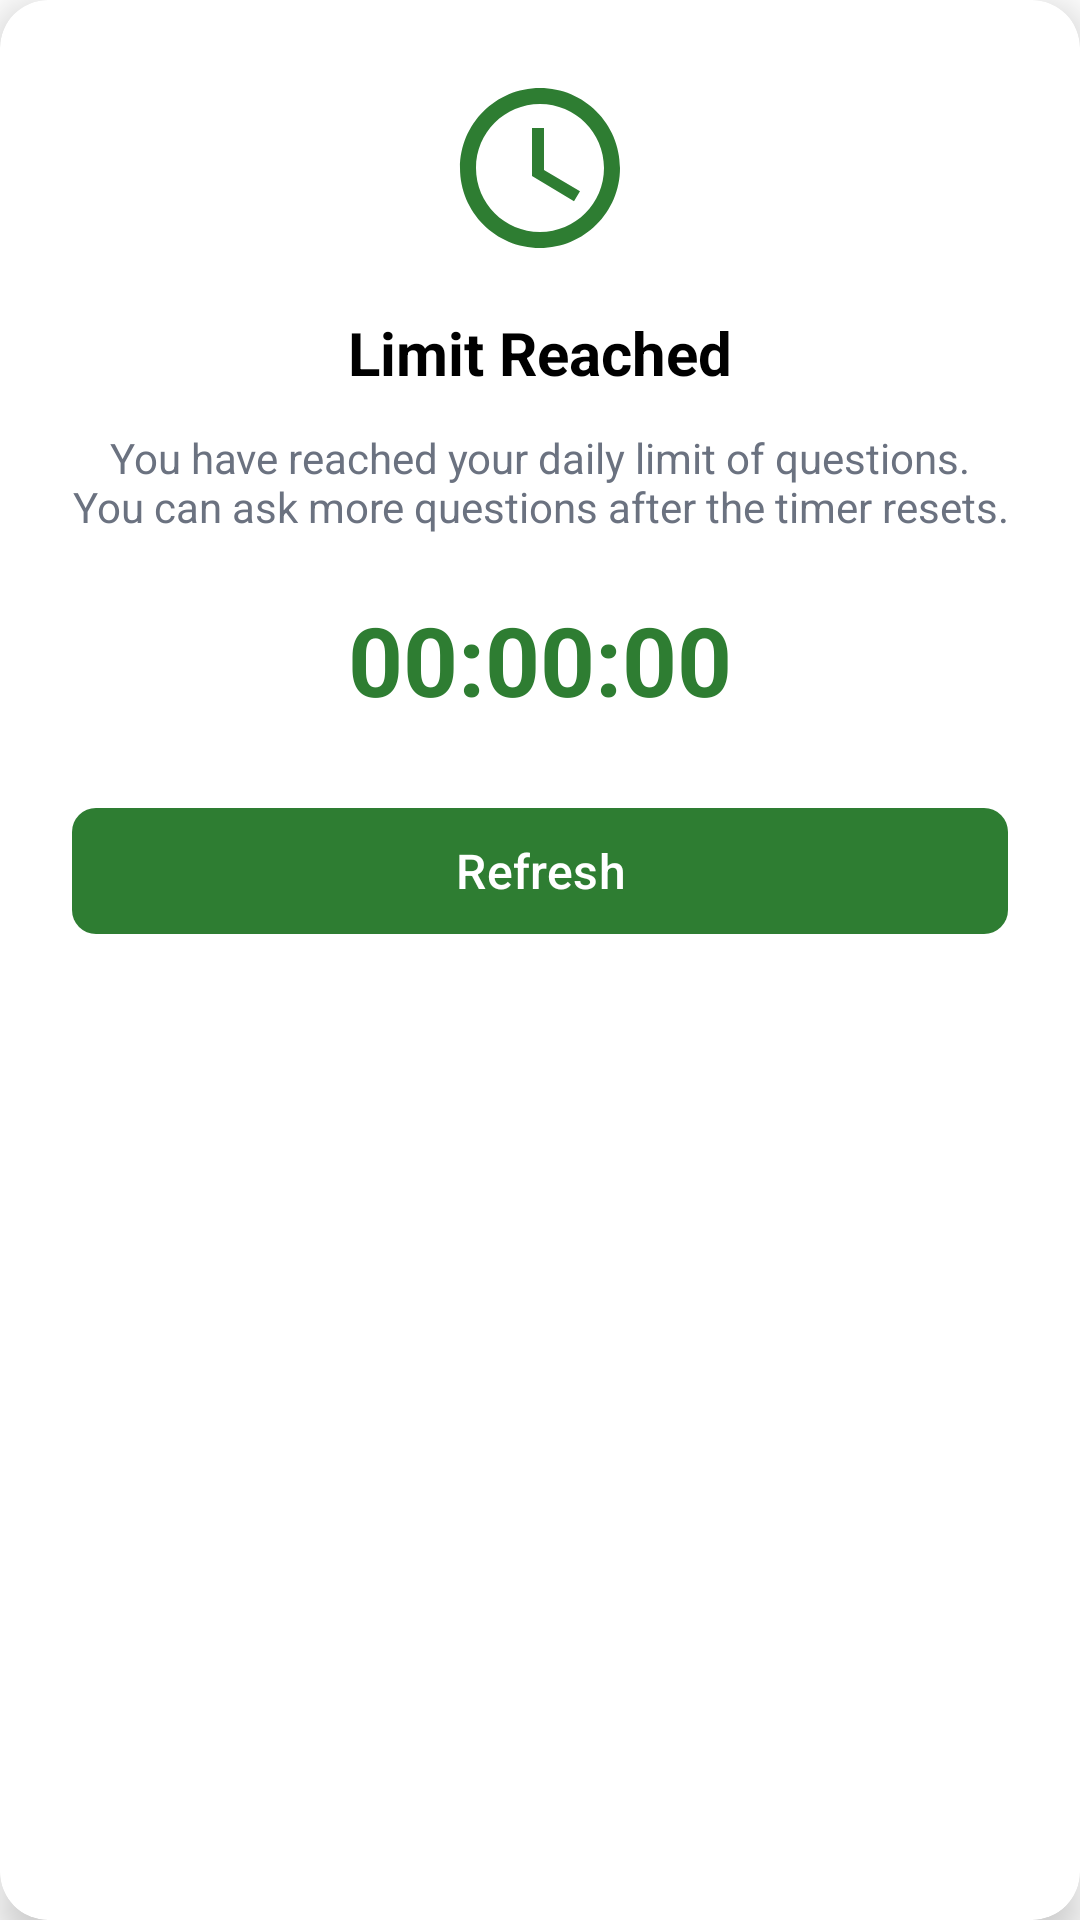

Point at icon controls on the screen. Image size 1080 x 1920, points as [x,y].
clock: [540,168]
